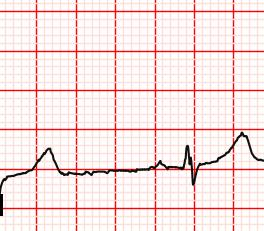Poor R Progression: (178, 143, 194, 171)
ST Depression: (180, 160, 203, 187)
